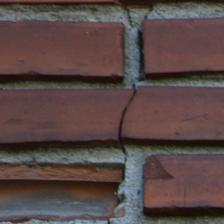Crack: (54, 43, 91, 178)
